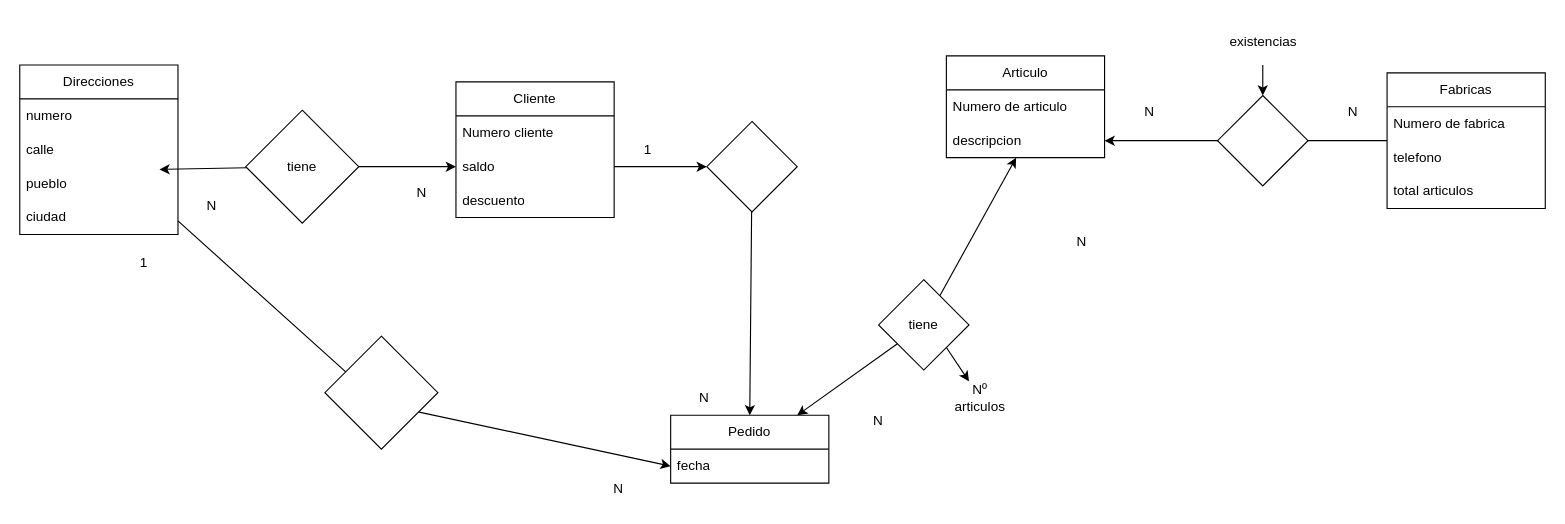
The diagram is 1565 pixels wide and 524 high, and some of its shapes have lost their labels. Each missing label, with the centre of its shape:
"Fabrican" belongs at point (1262, 140).
"Realiza" belongs at point (751, 166).
"usa" belongs at point (381, 392).
